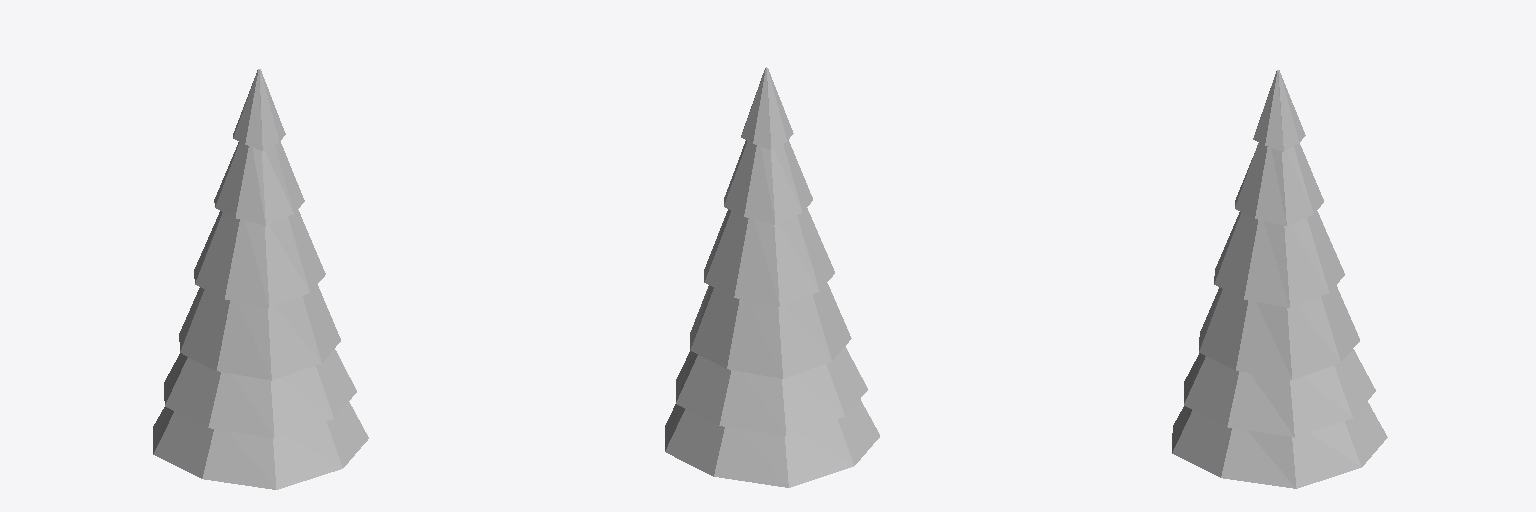
Rendered from Tree.obj.
3 renders of one model, left to right at view 1: azimuth 30°, elevation 25°; view 2: azimuth 150°, elevation 25°; view 3: azimuth 270°, elevation 25°, orthographic.
Parts seen in each view (by area): view 1: Cylinder; view 2: Cylinder; view 3: Cylinder.
Part boxes in pixels (x1,y1,x2,y2): Cylinder: (153,69,368,489); Cylinder: (665,67,879,487); Cylinder: (1172,70,1387,488).
Bounding box in the file's own units: 0.0671 × 0.1264 × 0.0662.